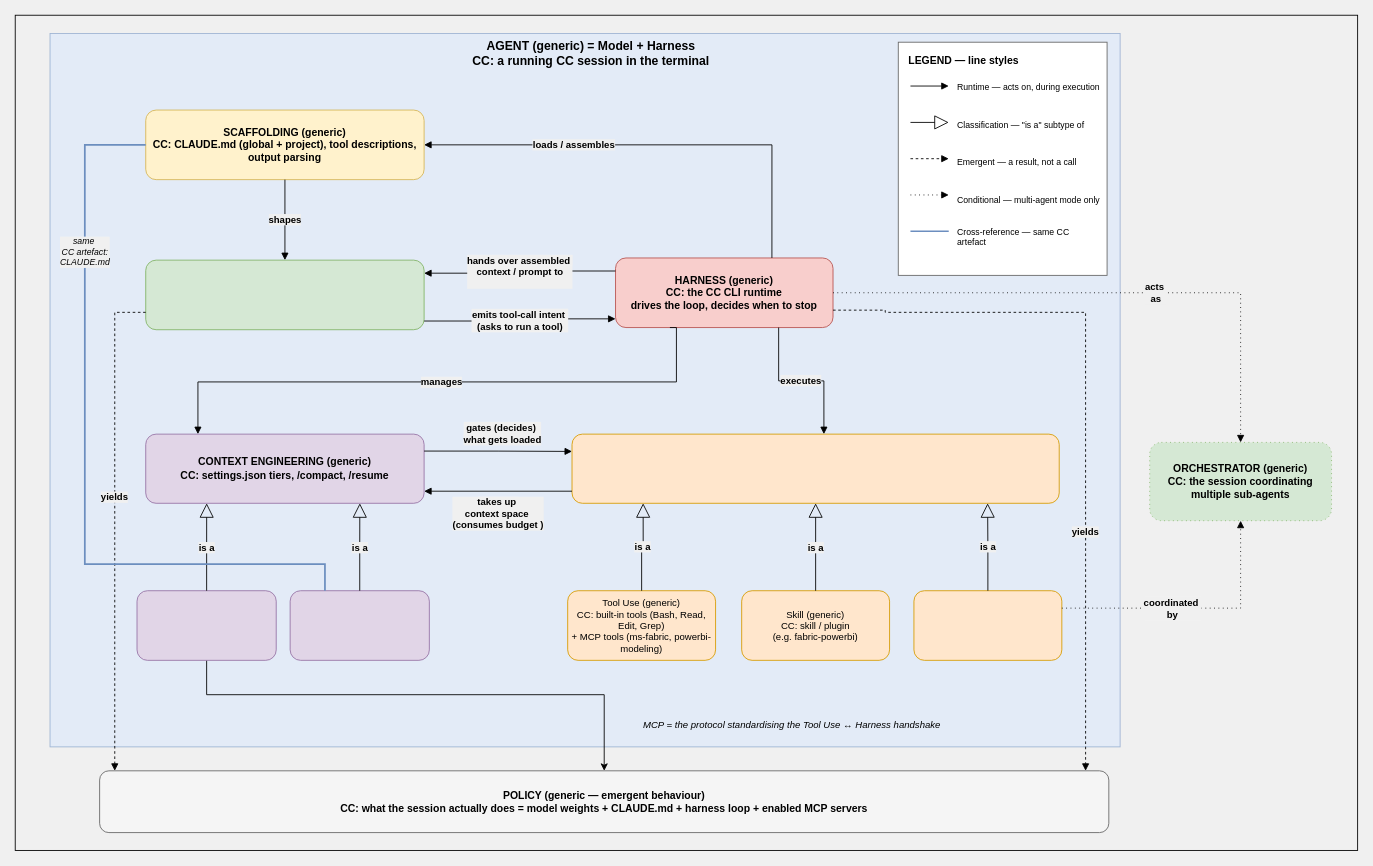
This 1373x866 diagram has some shape labels left out. Here are the shapes that lost their labels. From the top down, the centre of each, then its label:
At (284,294): "MODEL (generic) CC: Claude (Opus / Sonnet) stateless, no loop".
At (815,468): "CAPABILITIES (superclass) invoked by the harness, results returned to context".
At (206,625): "Short-term Memory (generic) CC: session JSONL (this run)".
At (359,625): "Long-term Memory (generic) CC: CLAUDE.md (across sessions)".
At (987,625): "Sub-agent (generic) CC: claude agents own model + scaffold".
